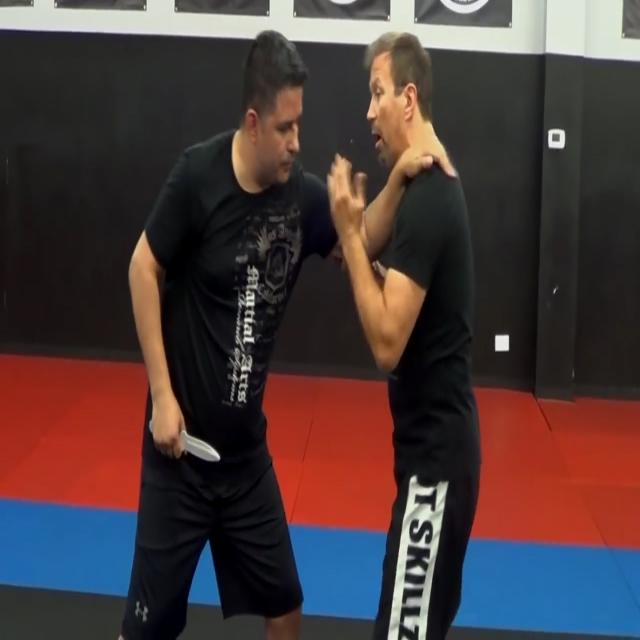knife: (179, 423, 227, 470)
